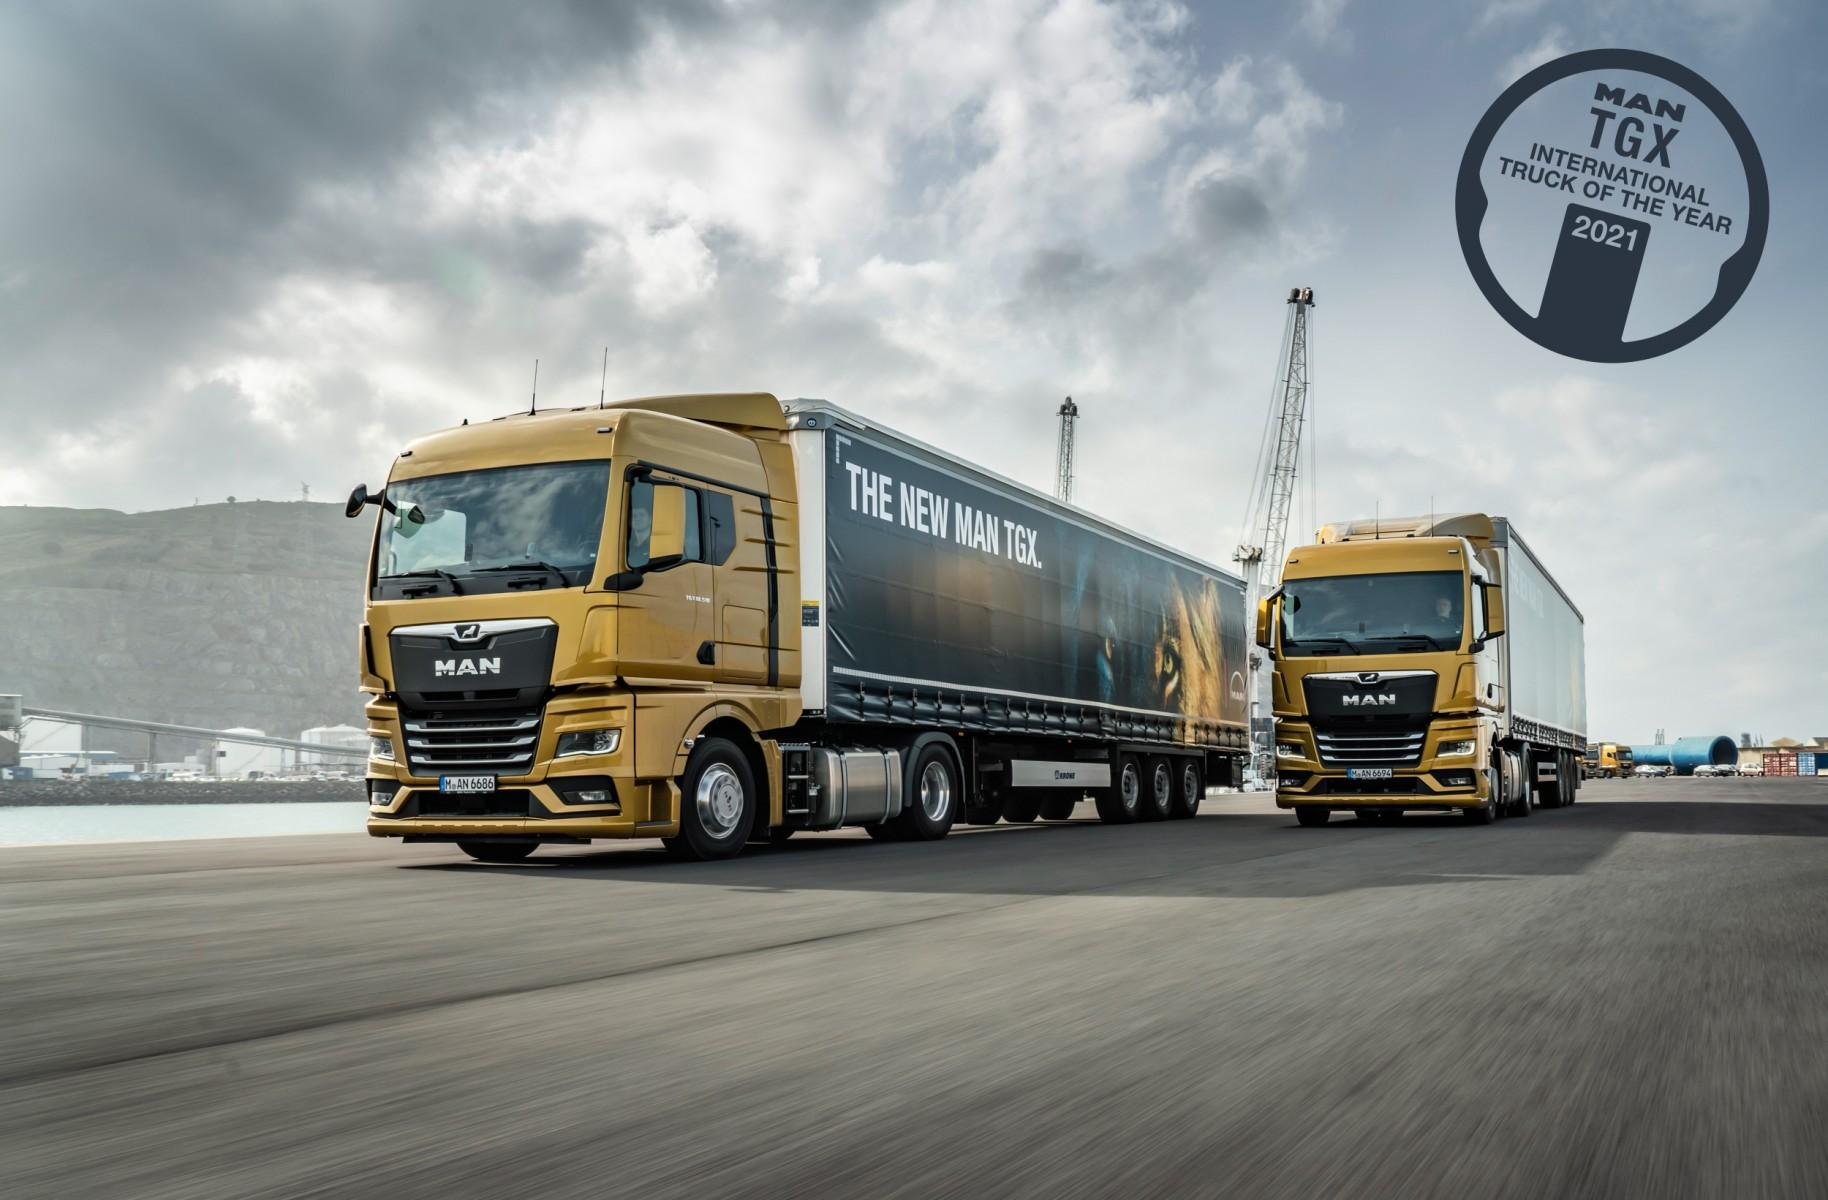truck: (344, 392, 1253, 867), (1253, 509, 1587, 828)
